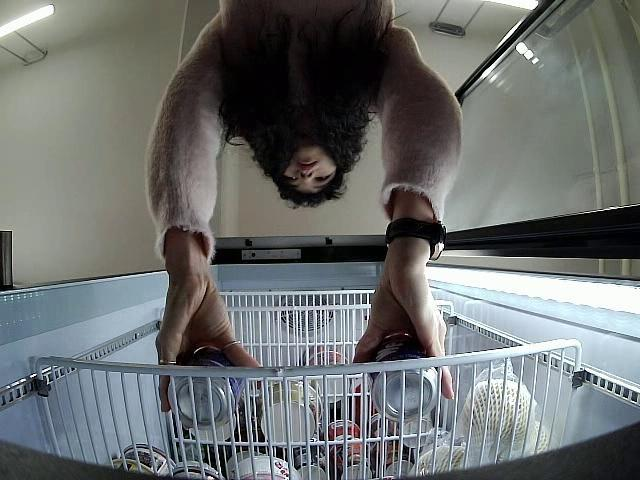14_welchsGrape: (366, 334, 440, 421), (168, 348, 248, 428)
